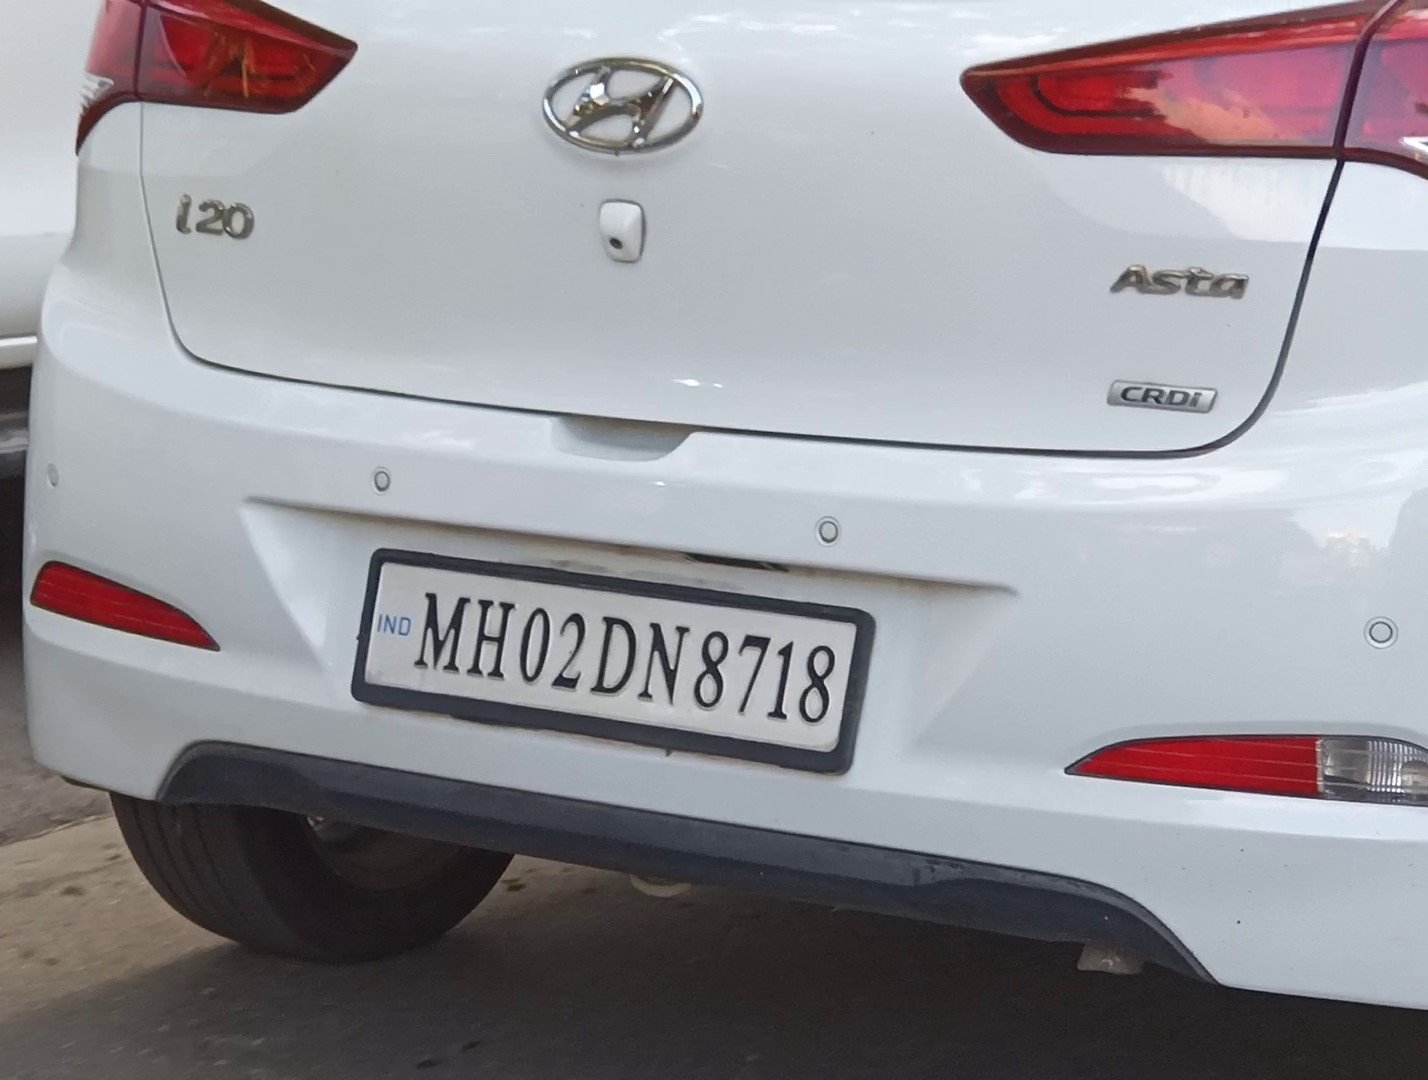MH02DN8718: (362, 561, 856, 754)
